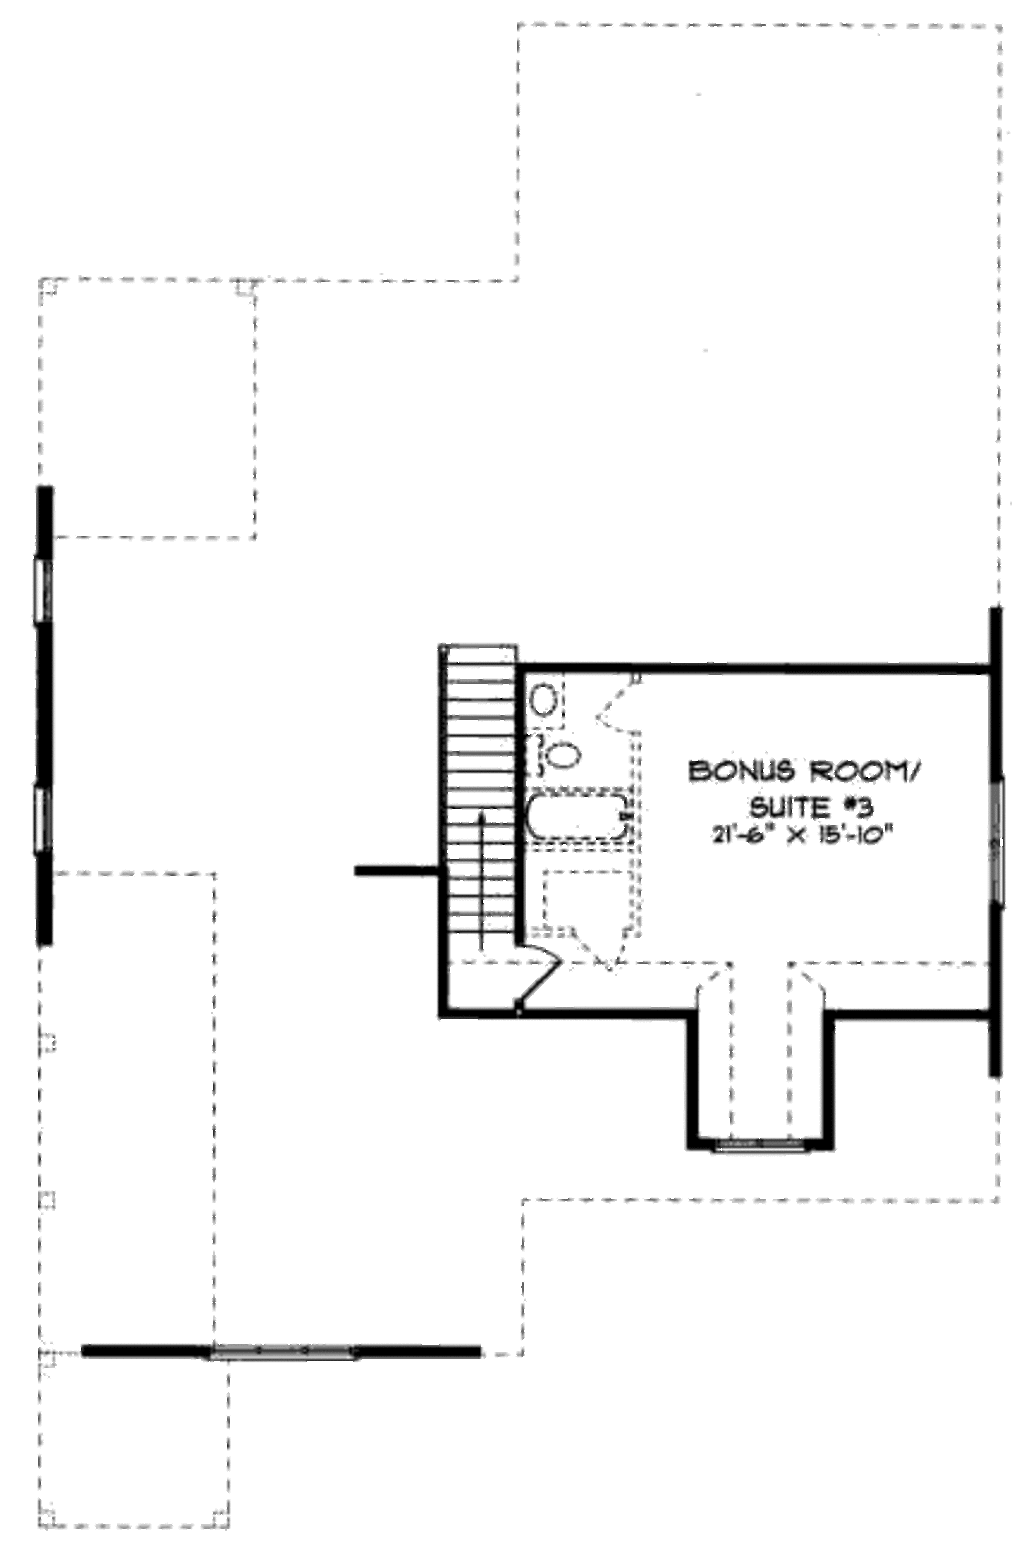door: (507, 929, 571, 1010), (593, 663, 651, 734), (583, 929, 639, 983)
large_sink: (522, 727, 587, 793)
small_sink: (522, 681, 571, 727)
stairs: (434, 642, 527, 956)
tub: (520, 788, 639, 844)
window: (987, 793, 1013, 905), (32, 559, 54, 634), (25, 788, 49, 849)
